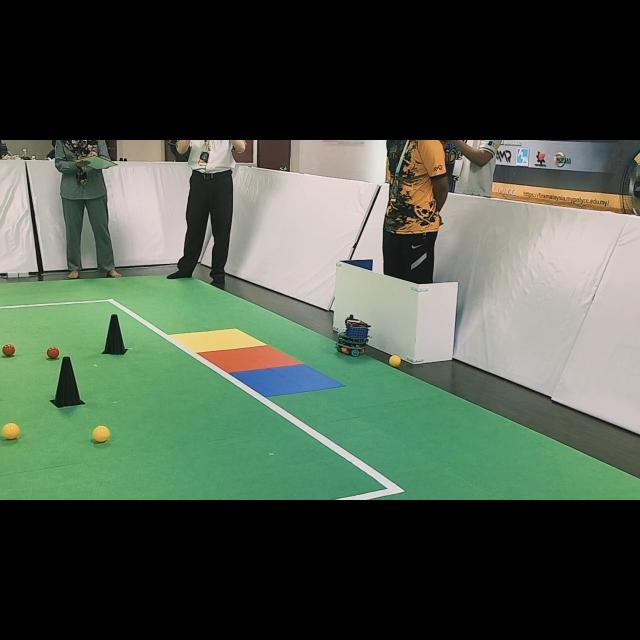ball: (92, 425, 110, 442), (2, 422, 20, 439), (46, 346, 60, 359), (2, 344, 15, 356), (389, 355, 401, 368)
goal: (232, 365, 344, 396), (200, 345, 301, 372), (171, 329, 266, 352)
